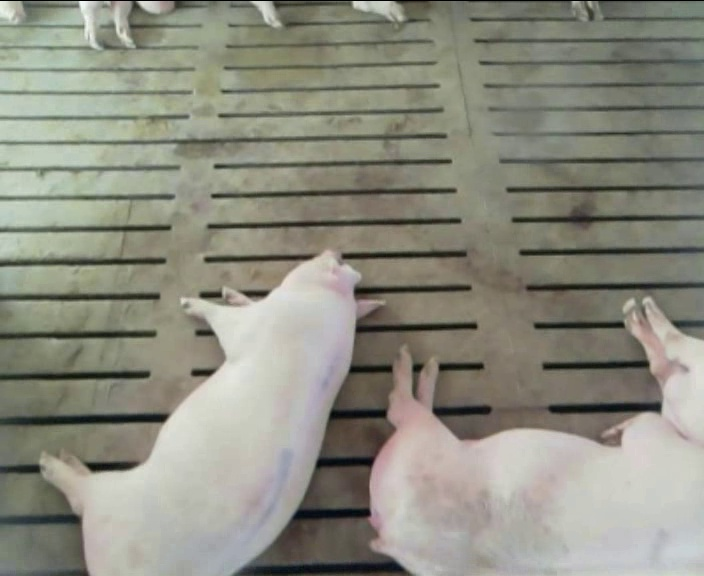pig: (41, 250, 379, 573), (370, 349, 703, 573)
